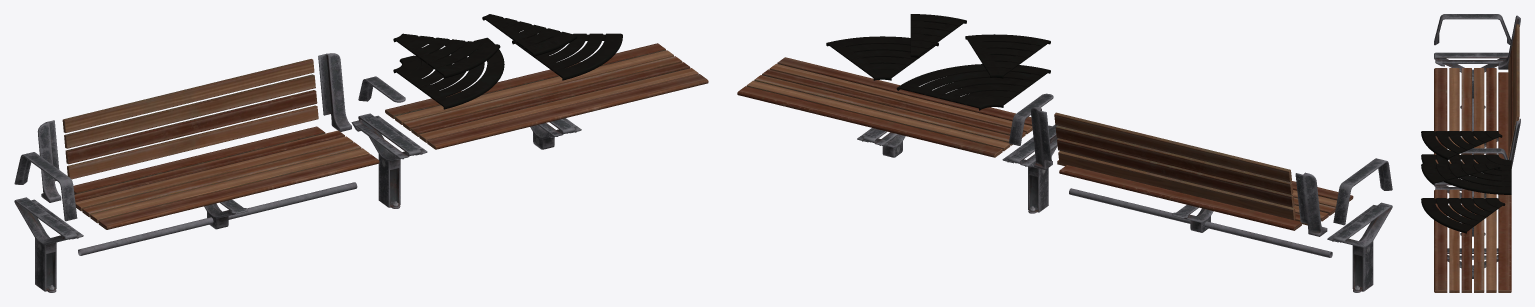
Rendered from modular_street_seating-lod0.glb.
3 views of the same model, side by side, from view 1: azimuth 30°, elevation 25°; view 2: azimuth 150°, elevation 25°; view 3: azimuth 270°, elevation 25° (orthographic). The views are drawn at different scales.
Parts seen in each view (by area): view 1: seat, connector_60, legs_double, crossbar; view 2: seat, connector_60, crossbar, legs_double; view 3: seat, connector_60, legs_double, crossbar.
Part boxes in pixels (box(x1,y1,x2,y2)): seat: box(62, 43, 708, 229); connector_60: box(393, 14, 622, 109); legs_double: box(14, 113, 581, 292); crossbar: box(14, 53, 405, 255); seat: box(737, 57, 1353, 230); connector_60: box(826, 14, 1050, 110); crossbar: box(1009, 93, 1392, 257); legs_double: box(857, 124, 1392, 292); seat: box(1434, 24, 1519, 292); connector_60: box(1421, 131, 1511, 233); legs_double: box(1434, 52, 1508, 278); crossbar: box(1434, 14, 1520, 196).
Size of the model in its own units: 4.34 by 0.95 by 0.7703.
4 materials, 4 textured.
